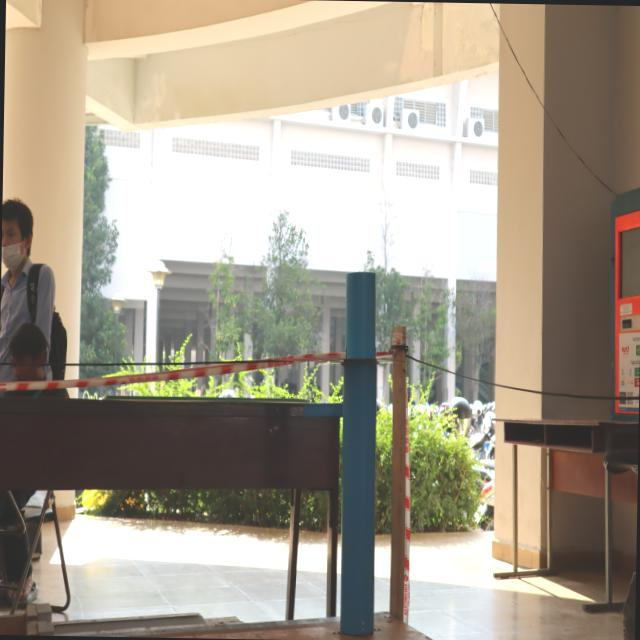pole: (323, 265, 400, 421)
